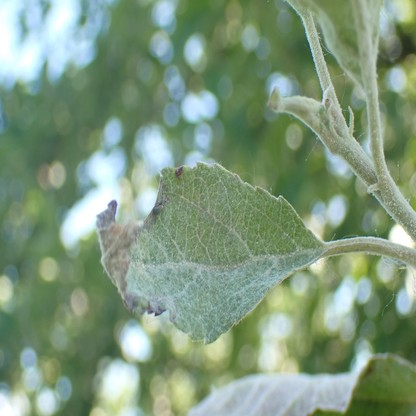powdery_mildew: (94, 160, 326, 343), (190, 351, 416, 416)
